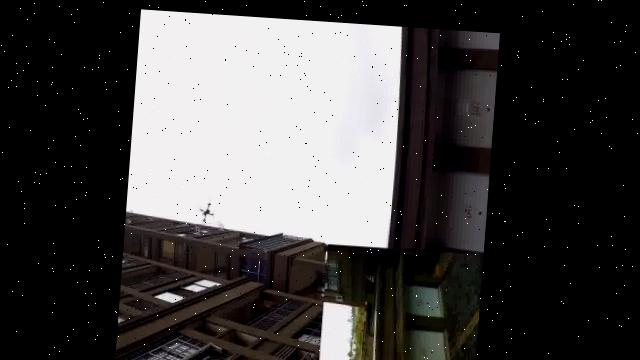drone: (198, 198, 217, 221)
